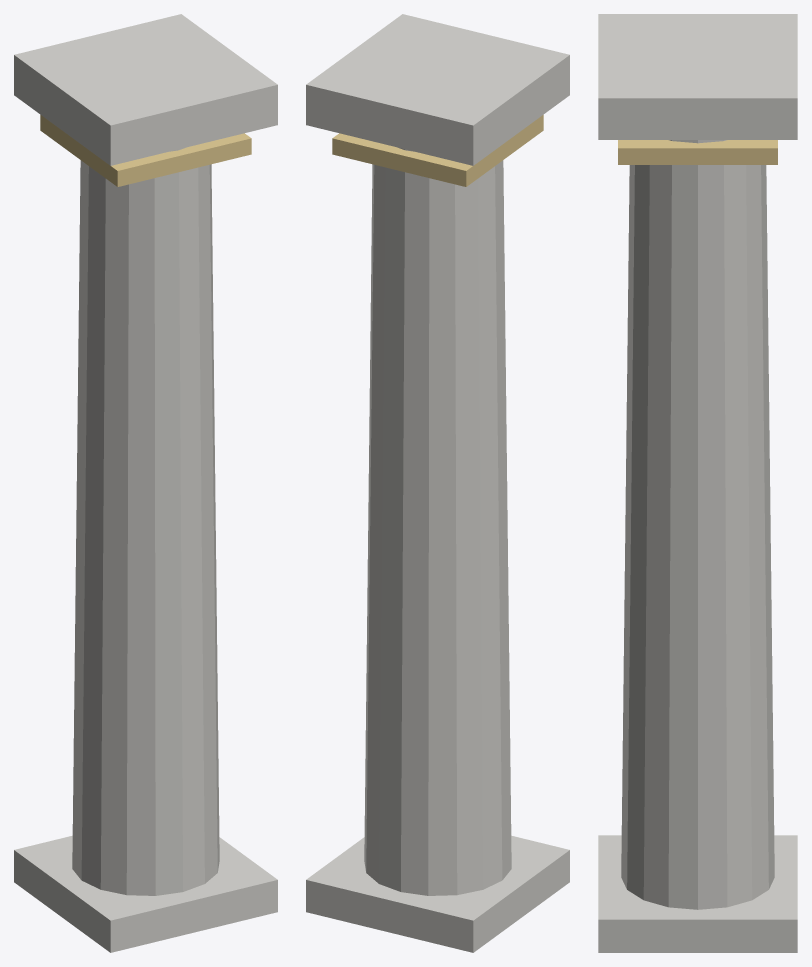
File: bank-vault-heist-kit-marble-column-981fa55d__25099.glb
The picture shows the model from 3 angles, left to right: view 1: azimuth 30°, elevation 25°; view 2: azimuth 150°, elevation 25°; view 3: azimuth 270°, elevation 25°; orthographic projection. The views are drawn at different scales.
Parts seen in each view (by area): view 1: marble-column; view 2: marble-column; view 3: marble-column.
Part boxes in pixels (left/top/right/bottom): marble-column: left=14, top=14, right=277, bottom=952; marble-column: left=306, top=14, right=569, bottom=952; marble-column: left=598, top=14, right=797, bottom=952.
Bounding box in the file's own units: 0.6498 × 3.07 × 0.6498.
